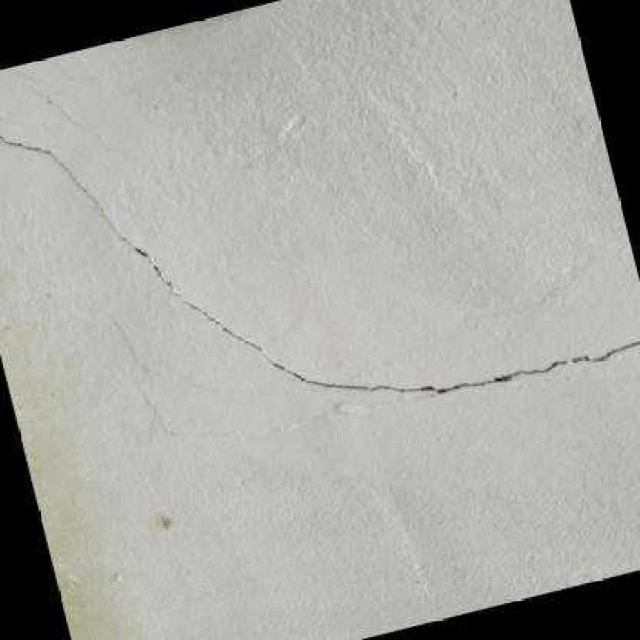D00: (0, 135, 640, 395)
